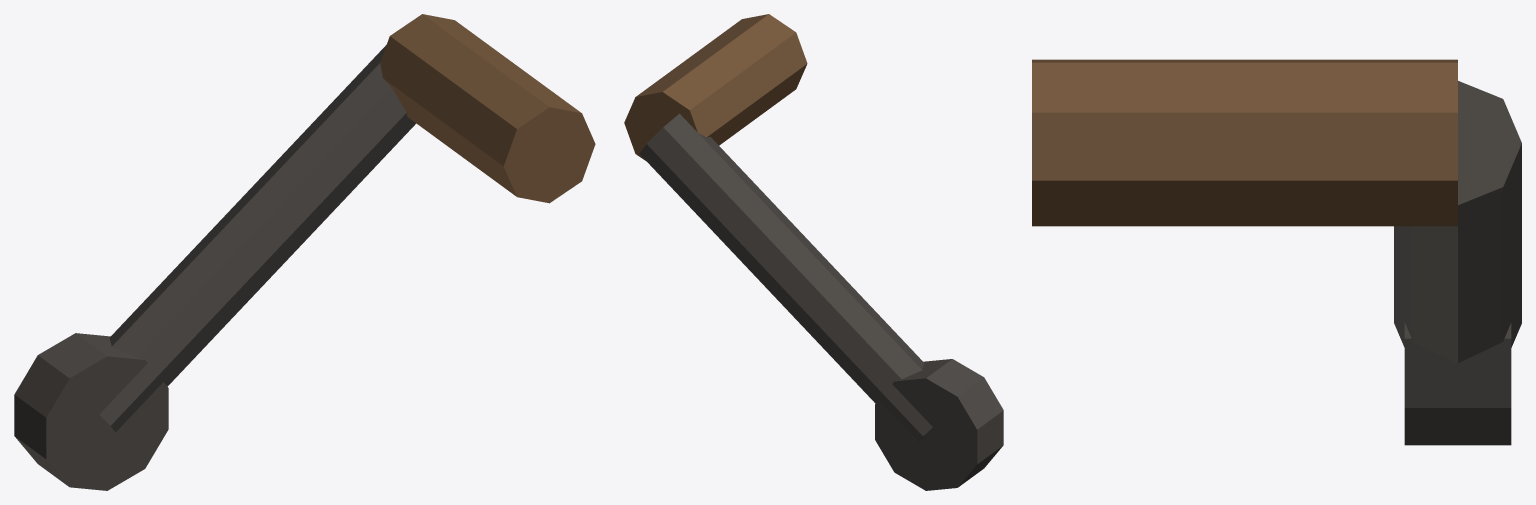
The model's file is SifterCrank.glb.
3 views of the same model, side by side, from view 1: azimuth 30°, elevation 25°; view 2: azimuth 150°, elevation 25°; view 3: azimuth 270°, elevation 25° (orthographic). The views are drawn at different scales.
Visible parts, largest first — view 1: SifterCrank.001; view 2: SifterCrank.001; view 3: SifterCrank.001.
Boxes of the visible parts, x1,y1,x2,y2 form: SifterCrank.001: [14, 14, 595, 490]; SifterCrank.001: [624, 14, 1003, 490]; SifterCrank.001: [1032, 59, 1521, 445].
Size of the model in its own units: 0.2383 by 0.2 by 0.138.
